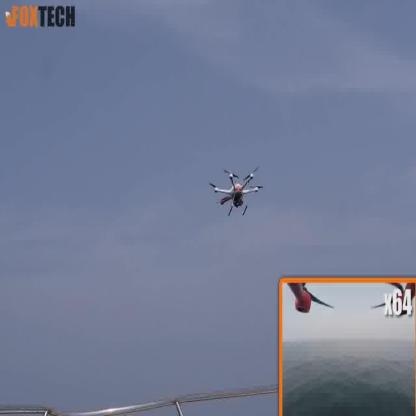drone: (205, 161, 267, 221)
